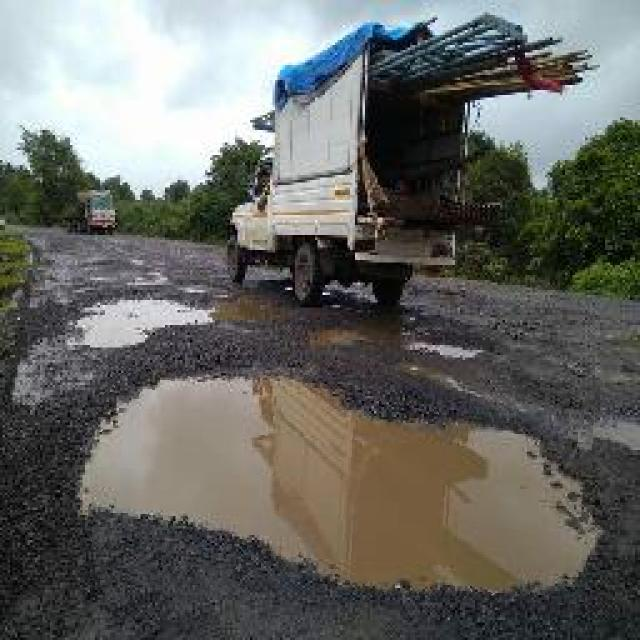puddle: (89, 373, 594, 599)
